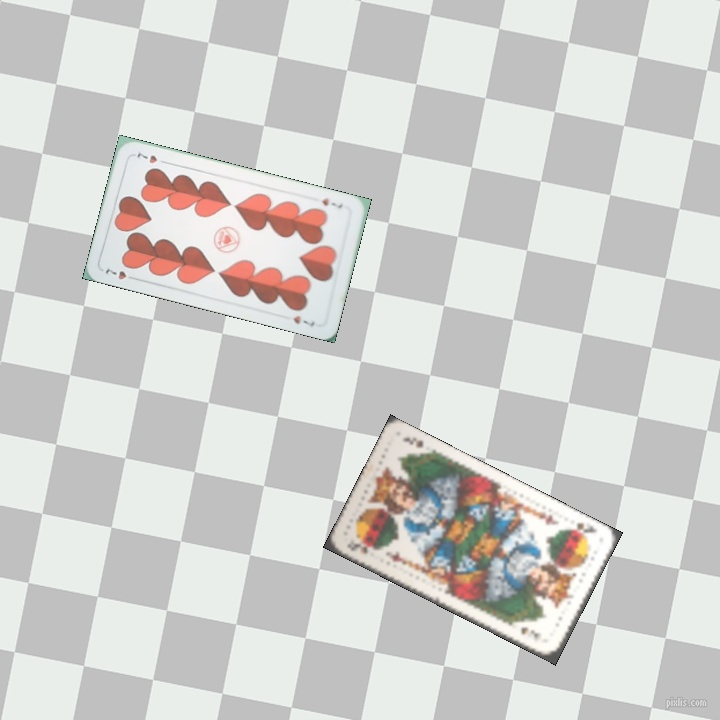H7: (101, 264, 139, 283), (318, 194, 345, 211)
SK: (564, 518, 600, 537), (343, 536, 373, 557)
